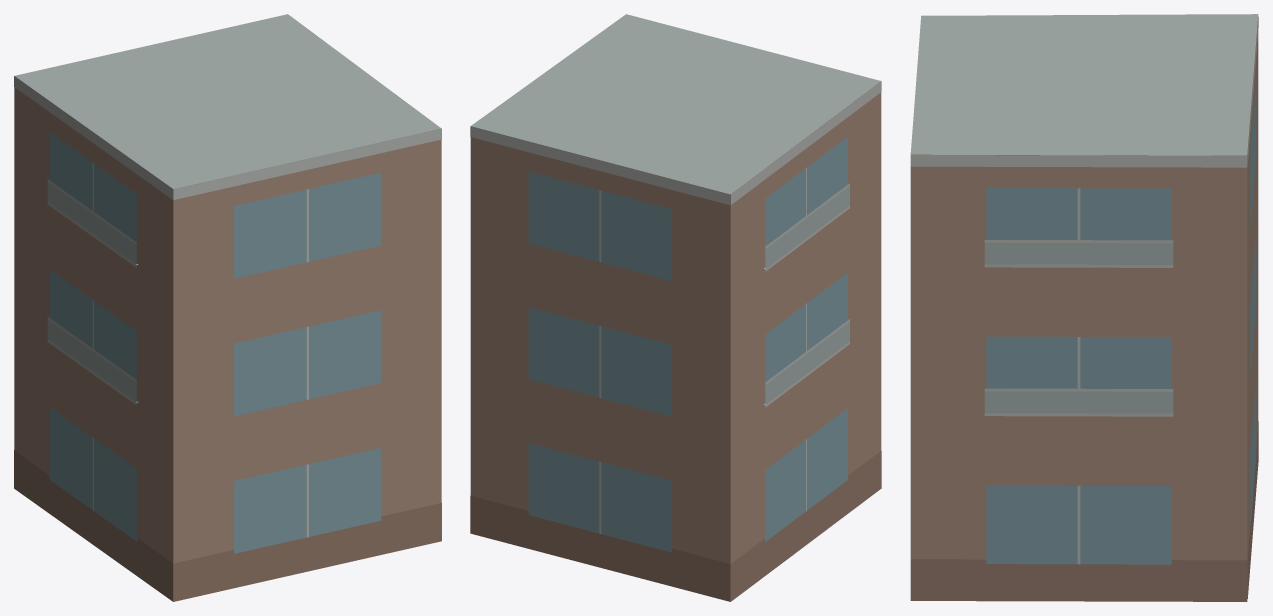
File: survey-upis-32576304.glb
3 renders of one model, left to right at view 1: azimuth 30°, elevation 25°; view 2: azimuth 150°, elevation 25°; view 3: azimuth 270°, elevation 25°, orthographic. The views are drawn at different scales.
Parts seen in each view (by area): view 1: survey-upis-32576304.tmp; view 2: survey-upis-32576304.tmp; view 3: survey-upis-32576304.tmp.
Part boxes in pixels (x1=…): survey-upis-32576304.tmp: x1=14, y1=14, x2=441, y2=601; survey-upis-32576304.tmp: x1=470, y1=14, x2=881, y2=601; survey-upis-32576304.tmp: x1=910, y1=14, x2=1258, y2=601.
Bounding box in the file's own units: 6.29 × 9.15 × 6.48.
